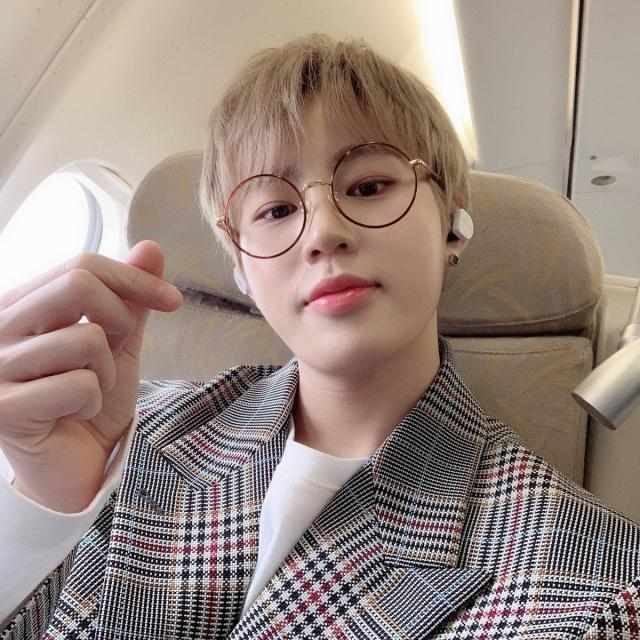earphone: (222, 228, 258, 312), (440, 190, 490, 249)
